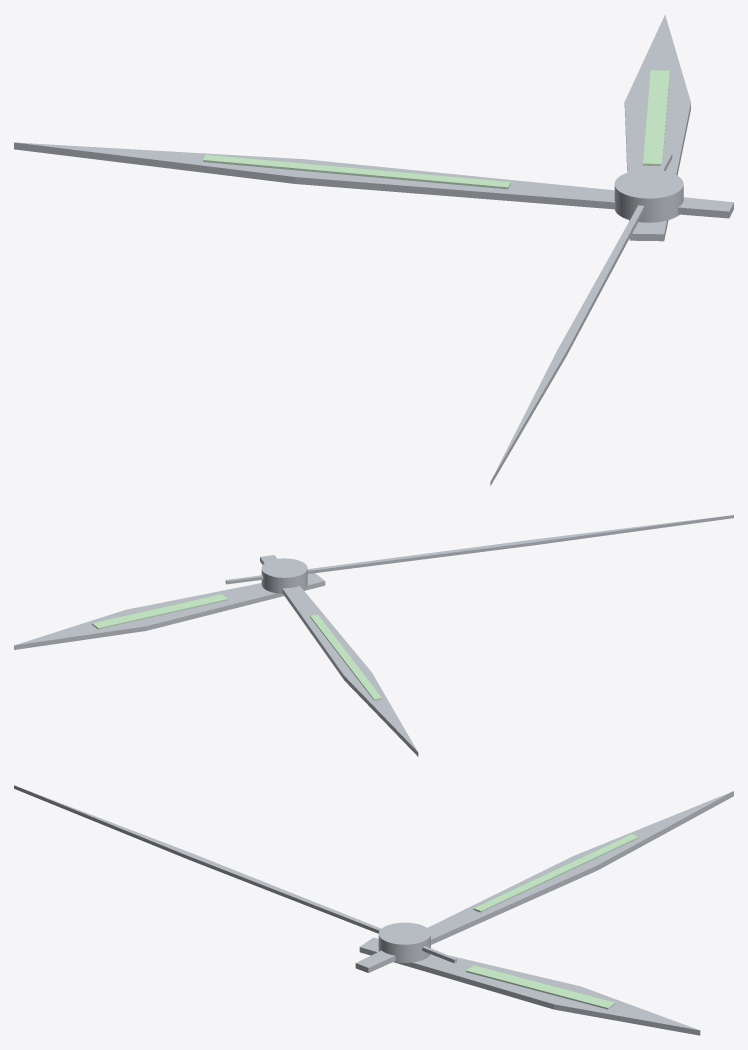
File: hands-sword-42.glb
The picture shows the model from 3 angles, top to bottom: view 1: azimuth 30°, elevation 25°; view 2: azimuth 150°, elevation 25°; view 3: azimuth 270°, elevation 25°; orthographic projection. The views are drawn at different scales.
Visible parts, largest first — view 1: DD_HAND_MINUTE, DD_HAND_HOUR, DD_HAND_HUB, DD_HAND_SECONDS, DD_HAND_MINUTE_LUME, DD_HAND_HOUR_LUME; view 2: DD_HAND_HOUR, DD_HAND_MINUTE, DD_HAND_SECONDS, DD_HAND_HUB, DD_HAND_HOUR_LUME, DD_HAND_MINUTE_LUME; view 3: DD_HAND_MINUTE, DD_HAND_HOUR, DD_HAND_SECONDS, DD_HAND_HUB, DD_HAND_HOUR_LUME, DD_HAND_MINUTE_LUME.
Part boxes in pixels (x1,y1,x2,y2): DD_HAND_MINUTE: [14, 142, 733, 218]; DD_HAND_HOUR: [624, 14, 690, 241]; DD_HAND_HUB: [614, 169, 683, 222]; DD_HAND_SECONDS: [490, 153, 672, 485]; DD_HAND_MINUTE_LUME: [203, 154, 510, 189]; DD_HAND_HOUR_LUME: [643, 70, 669, 165]; DD_HAND_HOUR: [14, 573, 325, 649]; DD_HAND_MINUTE: [260, 555, 418, 756]; DD_HAND_SECONDS: [225, 515, 733, 584]; DD_HAND_HUB: [261, 558, 307, 593]; DD_HAND_HOUR_LUME: [92, 594, 227, 629]; DD_HAND_MINUTE_LUME: [310, 614, 381, 700]; DD_HAND_MINUTE: [355, 791, 733, 972]; DD_HAND_HOUR: [359, 937, 700, 1035]; DD_HAND_SECONDS: [14, 785, 456, 963]; DD_HAND_HUB: [378, 922, 430, 962]; DD_HAND_HOUR_LUME: [466, 965, 615, 1009]; DD_HAND_MINUTE_LUME: [473, 834, 638, 912].
Bounding box in the file's own units: 14.21 × 0.685 × 18.59.
